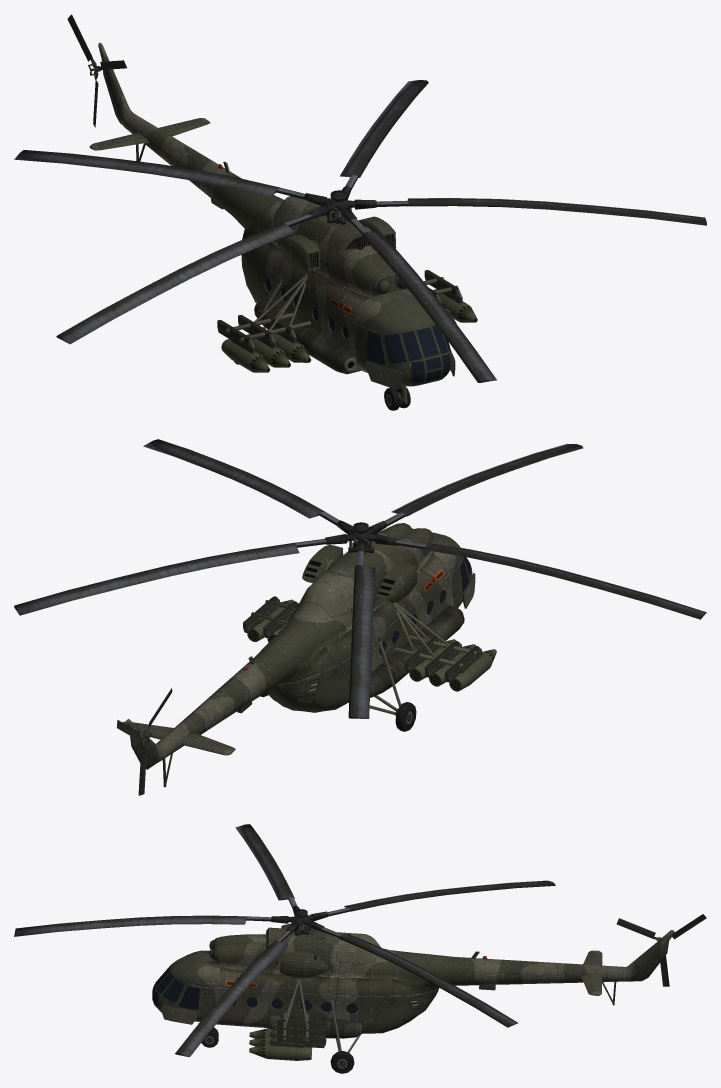
3 renders of one model, top to bottom at view 1: azimuth 30°, elevation 25°; view 2: azimuth 150°, elevation 25°; view 3: azimuth 270°, elevation 25°, orthographic. The views are drawn at different scales.
Parts seen in each view (by area): view 1: FXLHH_0M171; view 2: FXLHH_0M171; view 3: FXLHH_0M171.
Part boxes in pixels (bbox=[...]): FXLHH_0M171: bbox=[14, 14, 706, 410]; FXLHH_0M171: bbox=[14, 439, 706, 795]; FXLHH_0M171: bbox=[14, 824, 706, 1073].
Bounding box in the file's own units: 19.9 × 5.37 × 25.18.
5 materials, 5 textured.
